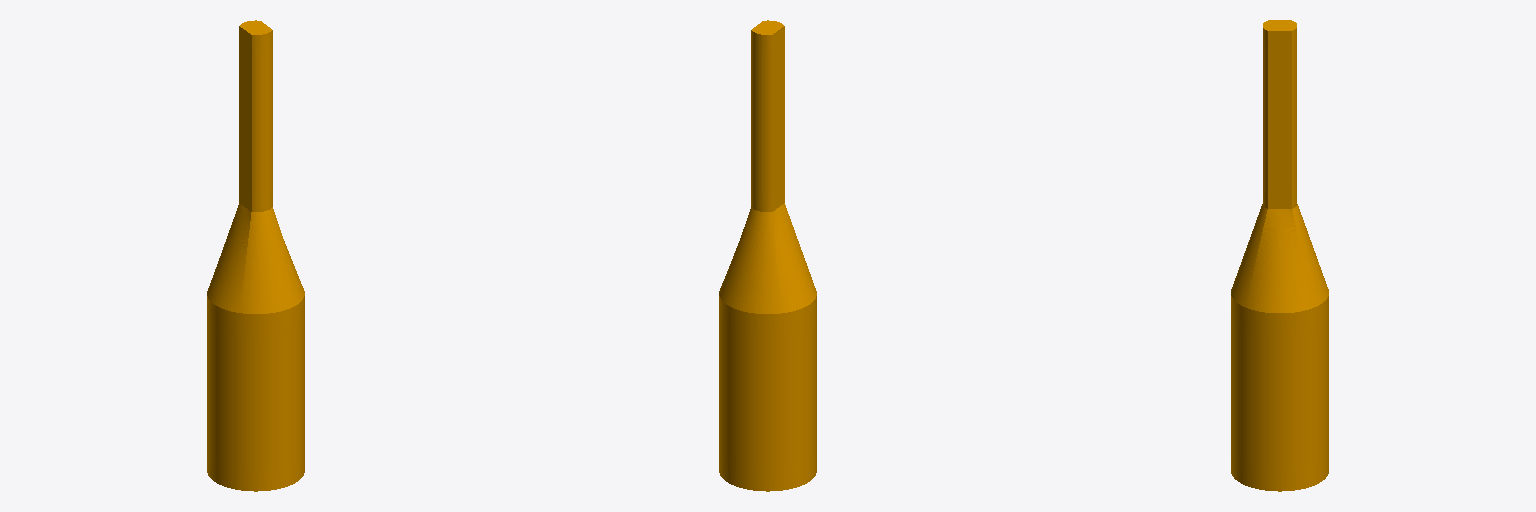
The robot description file, URDF, robot "pusher":
<robot
  name="pusher">
  <link name="base">
    <inertial>
      <origin xyz="0.0 0.0 0.0" rpy="0 0 0"/>
      <mass value="0.5"/>
      <inertia ixx="1" ixy="0.0" ixz="0.0" iyy="1" iyz="0.0" izz="1" />
    </inertial>

    <visual>
      <geometry>
        <mesh filename="pusher1-v1.obj" scale="0.0001 0.0001 0.0001" />
      </geometry>
     </visual>

    <collision>
      <geometry>
        <mesh filename="pusher1-v1.obj" scale="0.0001 0.0001 0.0001" />
      </geometry>
    </collision>

  </link>
</robot>

--- What the picture shows (computed from the rendered views, not written in the file) ---
The picture shows the robot from 3 angles, left to right: view 1: azimuth 30°, elevation 25°; view 2: azimuth 150°, elevation 25°; view 3: azimuth 270°, elevation 25°; orthographic projection.
Model pusher with 1 links and 0 joints (none), rooted at base, posed every joint at zero.
Links seen in each view (by area): view 1: base; view 2: base; view 3: base.
Link boxes in pixels (x1,y1,x2,y2): base: (207,20,304,491); base: (719,20,816,491); base: (1231,20,1328,491).
Size in the robot's own frame: 0.0254 by 0.0254 by 0.127 metres.
1 mesh visuals loaded from 1 distinct referenced files (1 OBJ).